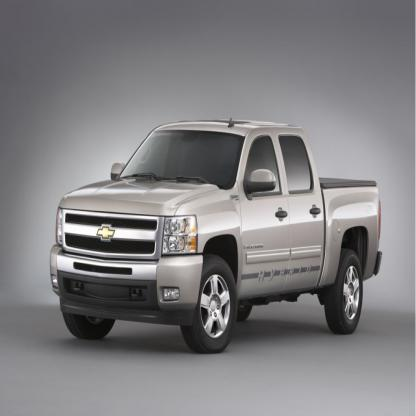car: (48, 118, 383, 358)
